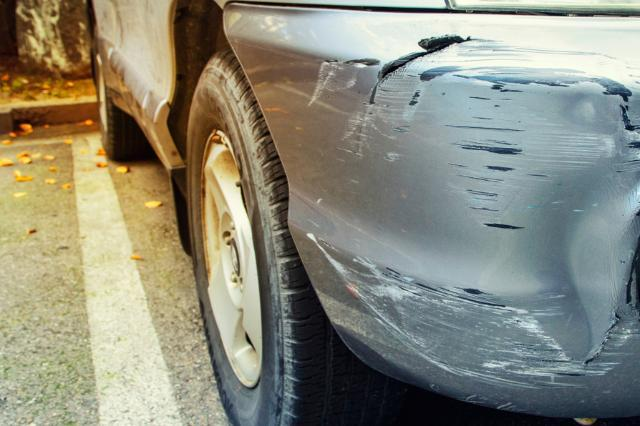Bumper: (224, 0, 640, 410)
